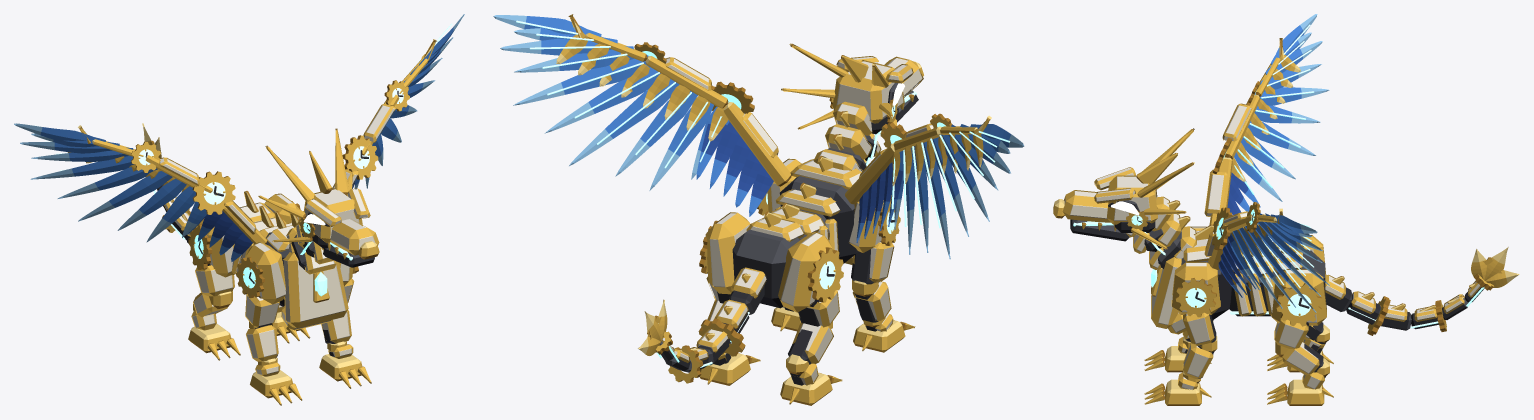
Rendered from EternalClockworkDragon.fbx.
3 renders of one model, left to right at view 1: azimuth 30°, elevation 25°; view 2: azimuth 150°, elevation 25°; view 3: azimuth 270°, elevation 25°, orthographic. The views are drawn at different scales.
Parts seen in each view (by area): view 1: EternalClockworkDragon_Body, EternalClockworkDragon_Glow_7ccbff, EternalClockworkDragon_Glow_61c4ff; view 2: EternalClockworkDragon_Body, EternalClockworkDragon_Glow_61c4ff, EternalClockworkDragon_Glow_7ccbff; view 3: EternalClockworkDragon_Body, EternalClockworkDragon_Glow_61c4ff, EternalClockworkDragon_Glow_7ccbff.
Part boxes in pixels (box(x1,y1,x2,y2)): EternalClockworkDragon_Body: box(14, 14, 464, 405); EternalClockworkDragon_Glow_7ccbff: box(138, 88, 403, 288); EternalClockworkDragon_Glow_61c4ff: box(34, 23, 452, 296); EternalClockworkDragon_Body: box(493, 14, 1024, 405); EternalClockworkDragon_Glow_61c4ff: box(516, 20, 1010, 367); EternalClockworkDragon_Glow_7ccbff: box(642, 51, 945, 323); EternalClockworkDragon_Body: box(1053, 14, 1519, 405); EternalClockworkDragon_Glow_61c4ff: box(1073, 24, 1484, 328); EternalClockworkDragon_Glow_7ccbff: box(1131, 90, 1311, 316).
Bounding box in the file's own units: 4.81 × 2.68 × 4.35.
4 materials, 1 textured.
